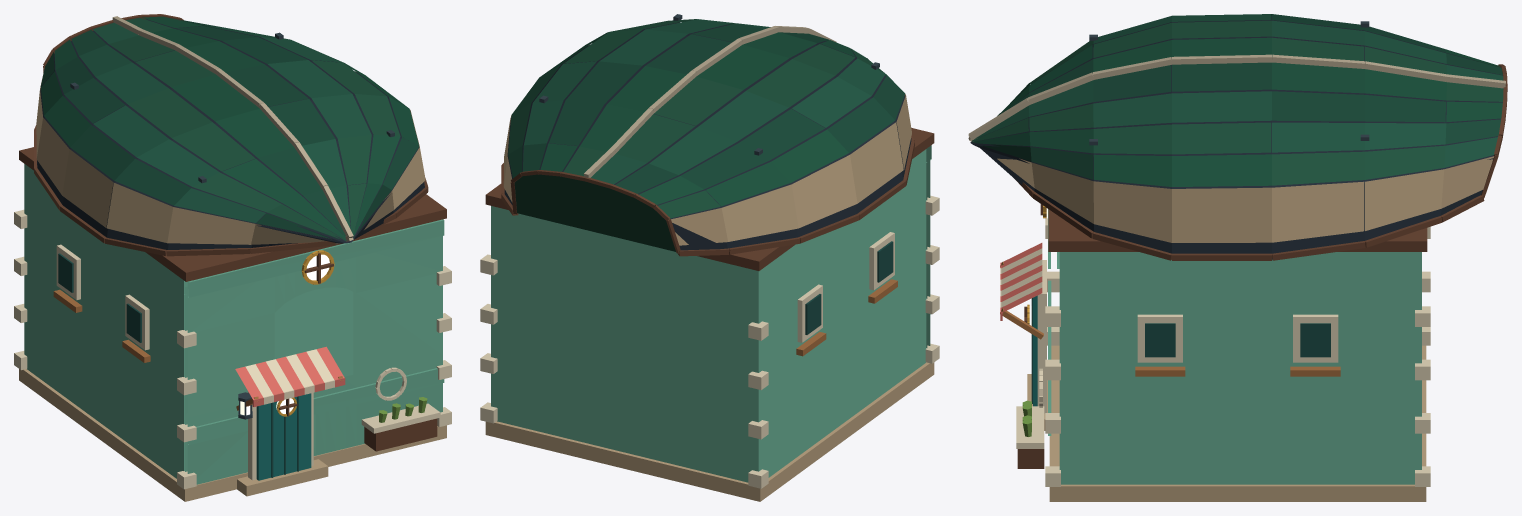
Rendered from net-loft-large-mint.glb.
3 renders of one model, left to right at view 1: azimuth 30°, elevation 25°; view 2: azimuth 150°, elevation 25°; view 3: azimuth 270°, elevation 25°, orthographic. The views are drawn at different scales.
Parts seen in each view (by area): view 1: net-loft-large-mint; view 2: net-loft-large-mint; view 3: net-loft-large-mint.
Boxes of the visible parts, x1=… form: net-loft-large-mint: x1=14, y1=14, x2=451, y2=501; net-loft-large-mint: x1=480, y1=14, x2=939, y2=501; net-loft-large-mint: x1=968, y1=14, x2=1507, y2=501.
Bounding box in the file's own units: 5.77 × 5.74 × 7.51.
